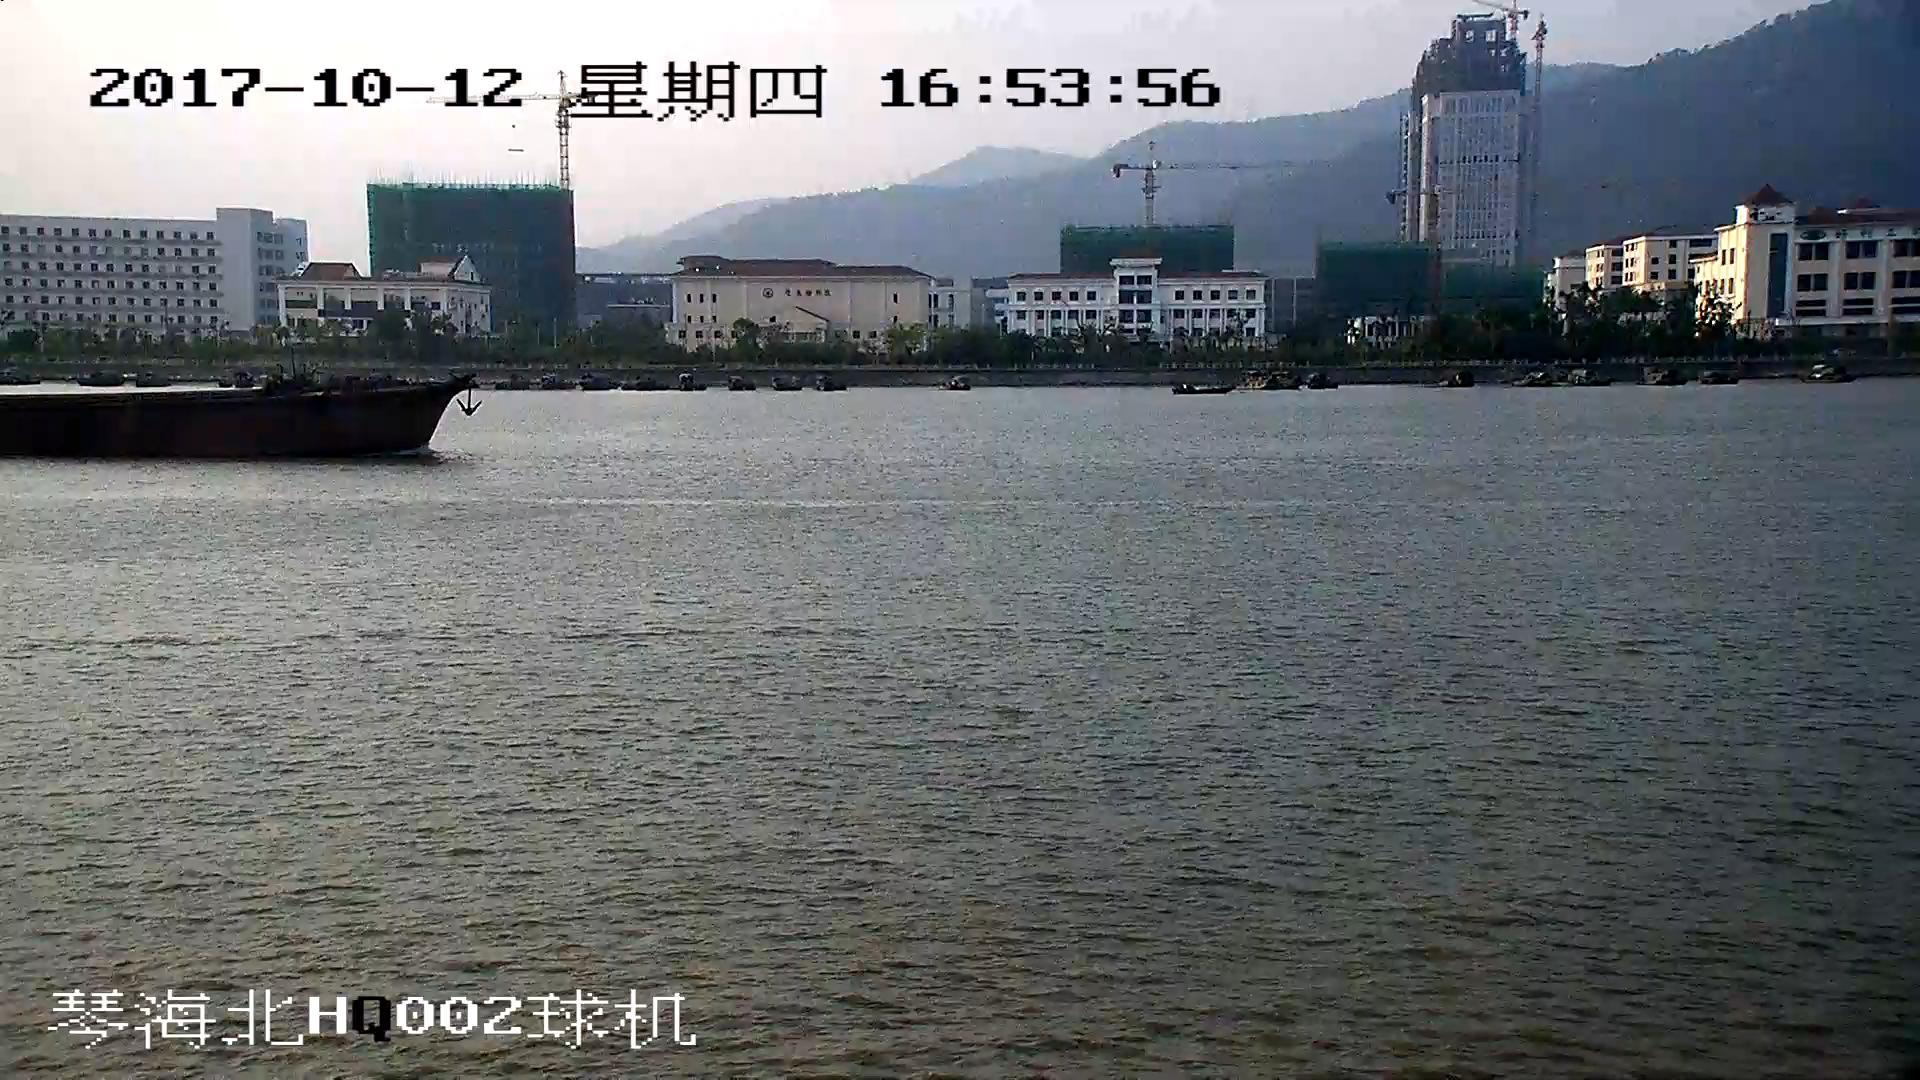Ship: (3, 381, 469, 465)
